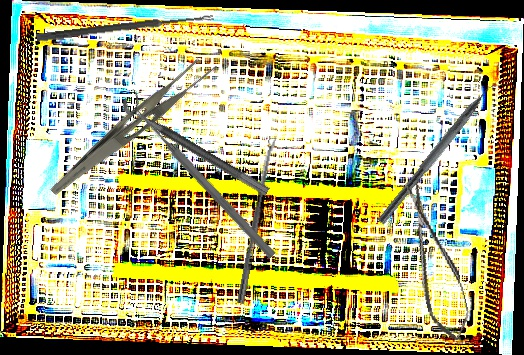Chopper: (376, 69, 511, 235)
Dressing Forceps: (48, 45, 221, 213)
Fixation Ring: (118, 88, 278, 197)
Micro Scissor: (397, 178, 475, 345)
Pusher: (133, 107, 278, 260)
Surgical Spoon: (236, 135, 278, 305), (36, 12, 214, 43)
